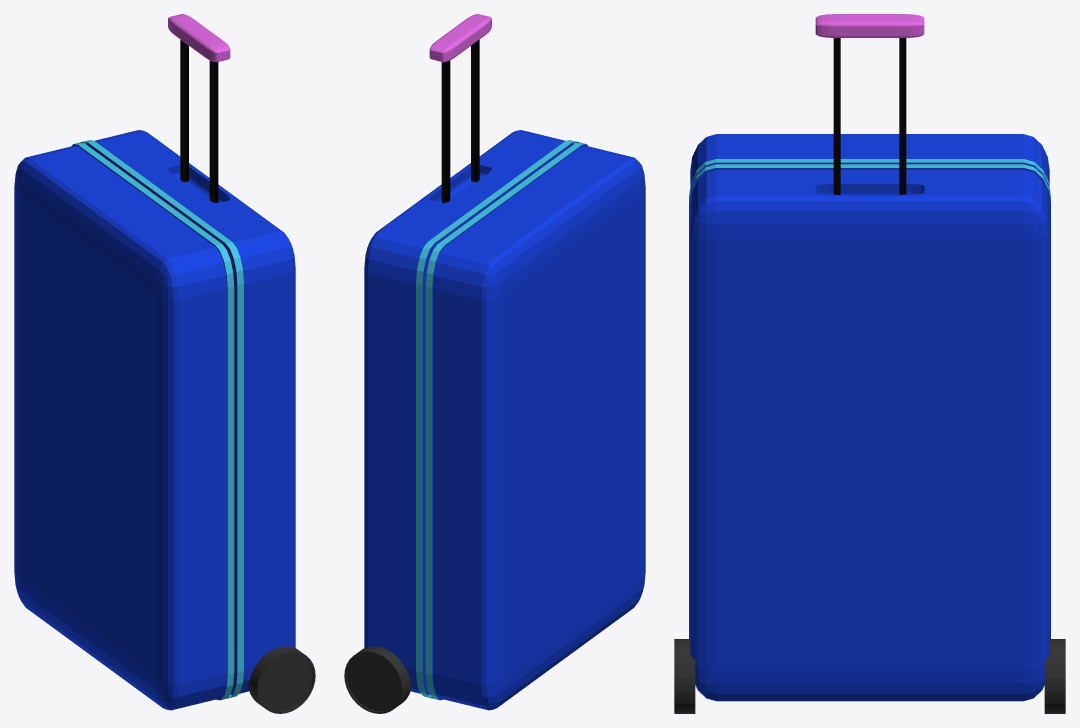
Rendered from Baggage.fbx.
3 views of the same model, side by side, from view 1: azimuth 30°, elevation 25°; view 2: azimuth 150°, elevation 25°; view 3: azimuth 270°, elevation 25° (orthographic). The views are drawn at different scales.
Visible parts, largest first — view 1: Cube, Cube.001, Cylinder; view 2: Cube, Cube.001, Cylinder; view 3: Cube, Cube.001, Cylinder.
Part boxes in pixels (bbox=[...]): Cube: bbox=[14, 130, 295, 710]; Cube.001: bbox=[168, 14, 230, 202]; Cylinder: bbox=[248, 646, 315, 713]; Cube: bbox=[364, 130, 645, 710]; Cube.001: bbox=[429, 14, 491, 202]; Cylinder: bbox=[344, 646, 411, 713]; Cube: bbox=[689, 134, 1050, 701]; Cube.001: bbox=[815, 14, 924, 194]; Cylinder: bbox=[674, 639, 1065, 713].
Size of the model in its own units: 101 by 425 by 218.
